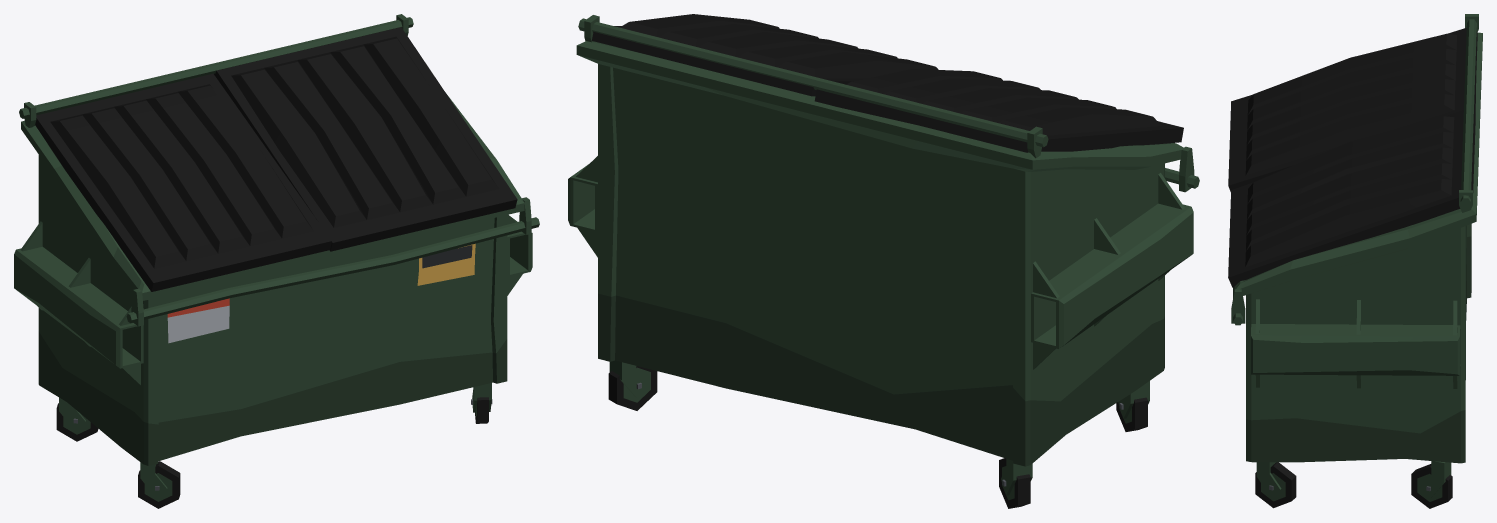
Rendered from SM_Prop_Skip_02.fbx.
3 renders of one model, left to right at view 1: azimuth 30°, elevation 25°; view 2: azimuth 150°, elevation 25°; view 3: azimuth 270°, elevation 25°, orthographic. The views are drawn at different scales.
Parts seen in each view (by area): view 1: SM_Prop_Skip_02; view 2: SM_Prop_Skip_02; view 3: SM_Prop_Skip_02.
Boxes of the visible parts, x1,y1,x2,y2 form: SM_Prop_Skip_02: (14, 14, 539, 508); SM_Prop_Skip_02: (568, 14, 1199, 508); SM_Prop_Skip_02: (1228, 14, 1482, 508).
Size of the model in its own units: 243 by 185 by 132.
